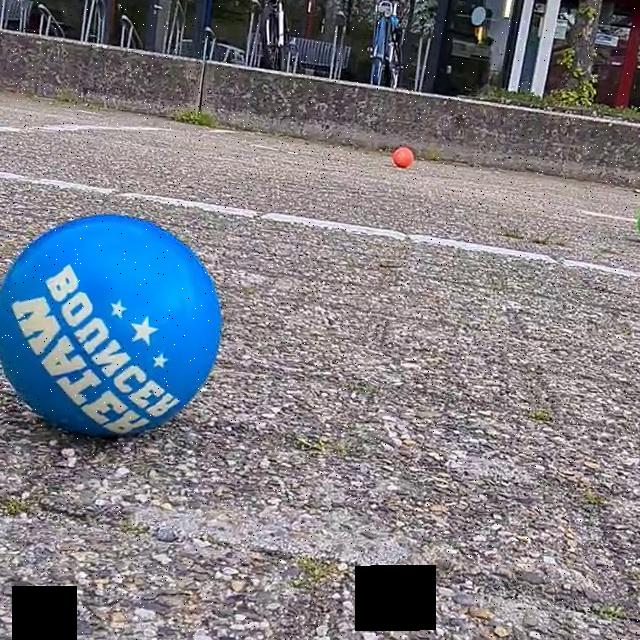ball: (390, 143, 415, 170)
